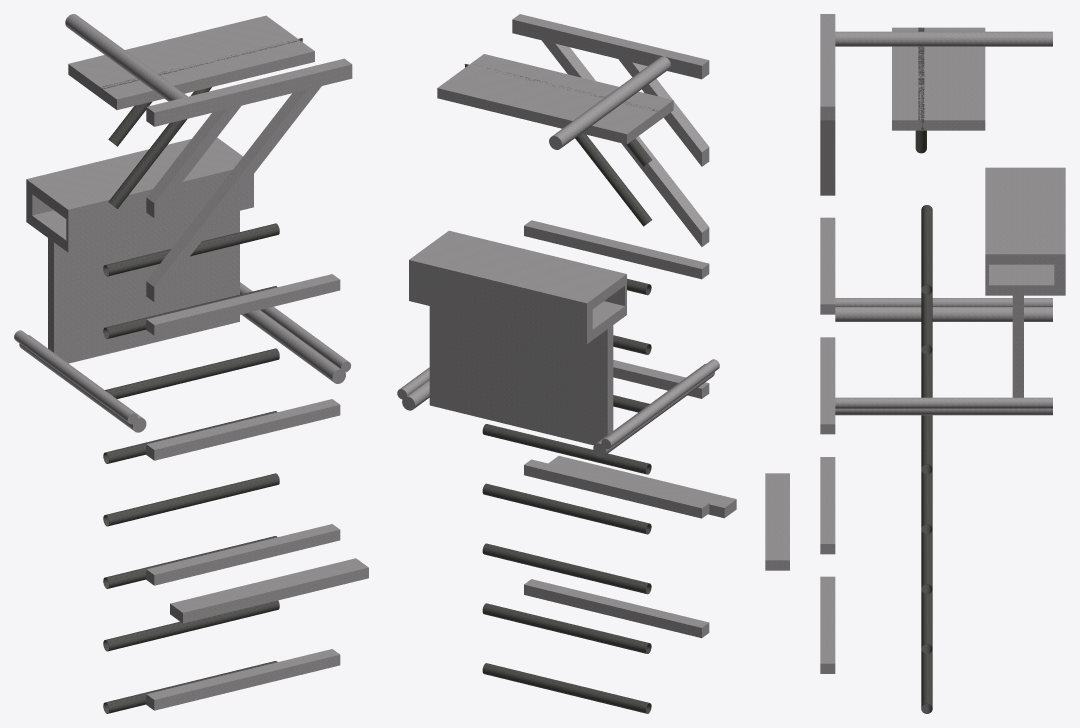
3 views of the same model, side by side, from view 1: azimuth 30°, elevation 25°; view 2: azimuth 150°, elevation 25°; view 3: azimuth 270°, elevation 25° (orthographic). The views are drawn at different scales.
Visible parts, largest first — view 1: 0_1_3_3_0; view 2: 0_1_3_3_0; view 3: 0_1_3_3_0.
Boxes of the visible parts, left/top/right/bottom form: 0_1_3_3_0: left=14, top=14, right=368, bottom=713; 0_1_3_3_0: left=397, top=14, right=736, bottom=713; 0_1_3_3_0: left=765, top=14, right=1065, bottom=713.
Size of the model in its own units: 13.1 by 36.05 by 15.9.
31 materials, 31 textured.
